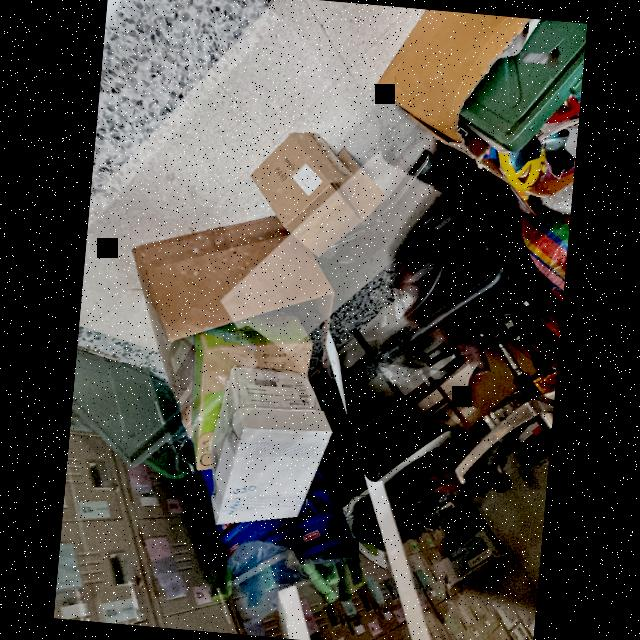cardboard_box: (118, 200, 352, 403), (368, 5, 536, 178), (173, 303, 322, 475), (194, 359, 338, 533), (246, 118, 391, 259)
